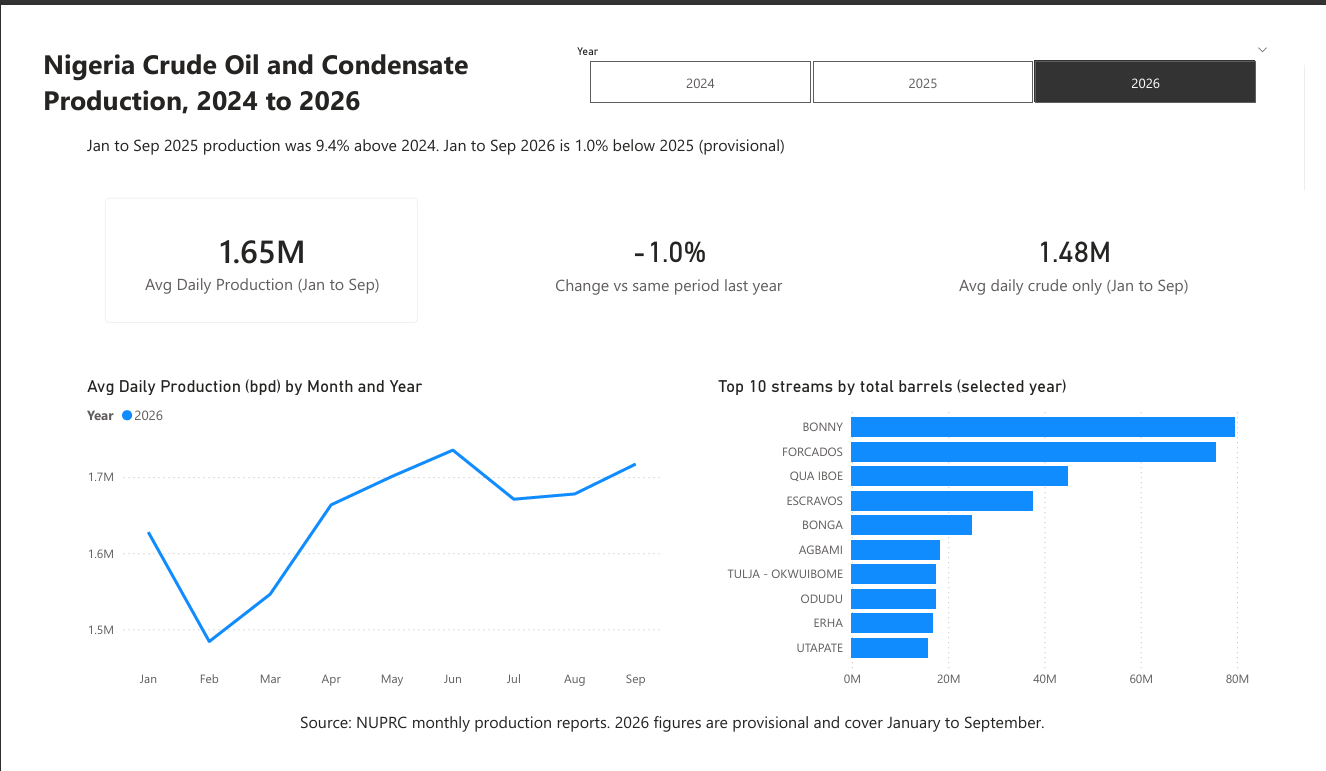

Layout of this report page (visuals, bound fields, positions):
{"tool":"powerbi","page":{"name":"OVERVIEW","canvas":[1280,720],"ordinal":1},"visuals":[{"type":"cardVisual","fields":{"Data":["Production_All.Avg Daily bpd (Jan to Cutoff)"]},"box":[63.1,152.2,346.5,158.7],"z":0},{"type":"card","fields":{"Values":["Production_All.YoY Change %"]},"box":[474.4,152.2,340,158.7],"z":1000},{"type":"card","fields":{"Values":["Production_All.Avg Daily Crude bpd (Jan to Cutoff)"]},"box":[879.2,152.2,340,158.7],"z":2000},{"type":"slicer","fields":{"Values":["Calendar.Year"]},"box":[539.2,11.3,715.7,69.6],"z":3000},{"type":"lineChart","fields":{"Category":["Calendar.Month"],"Y":["Production_All.Avg Daily Production (bpd)"],"Series":["Calendar.Year"]},"box":[56.7,347.1,582.9,320.6],"z":4000},{"type":"clusteredBarChart","title":"Top 10 streams by total barrels (selected year)","fields":{"Category":["Production_All.TERMINAL/STREAM"],"Y":["Production_All.Total Barrels"]},"box":[688.2,347.1,540.8,320.6],"z":5000},{"type":"textbox","box":[270.4,676.8,759.4,43.7],"z":6000},{"type":"textbox","box":[13,11.3,469.6,85.8],"z":7000},{"type":"textbox","box":[56.7,100.4,725.4,51.8],"z":8000}]}

Visuals, with their boxes on the page's 1280x720 design canvas (x1, y1, x2, y2). These are canvas units, not pixel positions in the 1326x771 screenshot, which may show the page scaled, cropped or inside an application window:
cardVisual - Production_All.Avg Daily bpd (Jan to Cutoff): crop(63, 152, 410, 311)
card - Production_All.YoY Change %: crop(474, 152, 814, 311)
card - Production_All.Avg Daily Crude bpd (Jan to Cutoff): crop(879, 152, 1219, 311)
slicer - Calendar.Year: crop(539, 11, 1255, 81)
lineChart - Calendar.Month x Production_All.Avg Daily Production (bpd): crop(57, 347, 640, 668)
"Top 10 streams by total barrels (selected year)" clusteredBarChart: crop(688, 347, 1229, 668)
textbox: crop(270, 677, 1030, 720)
textbox: crop(13, 11, 483, 97)
textbox: crop(57, 100, 782, 152)
